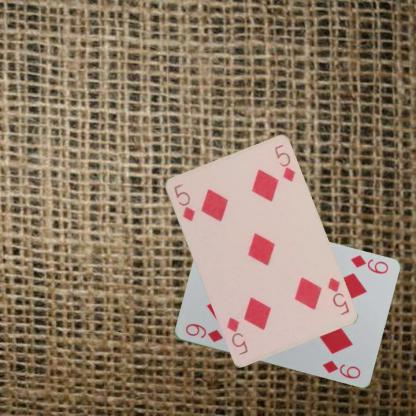5d: (171, 180, 196, 224), (324, 274, 350, 316)
9d: (182, 321, 224, 344), (348, 252, 390, 275)
